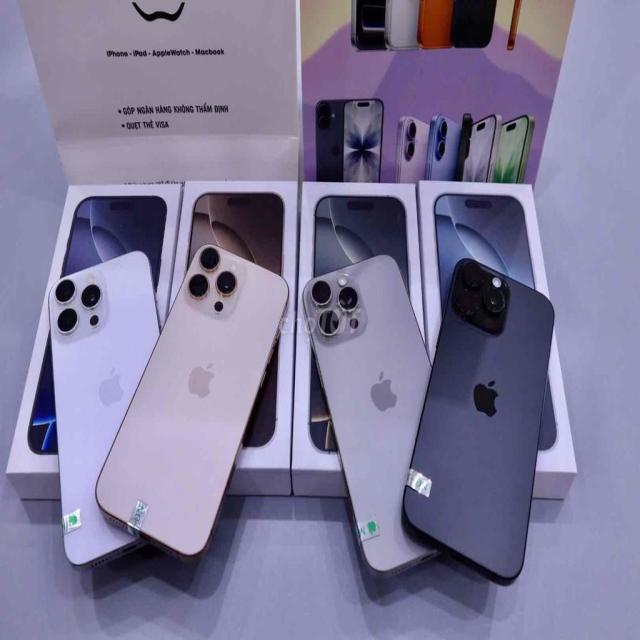gen_16: (398, 250, 558, 589)
